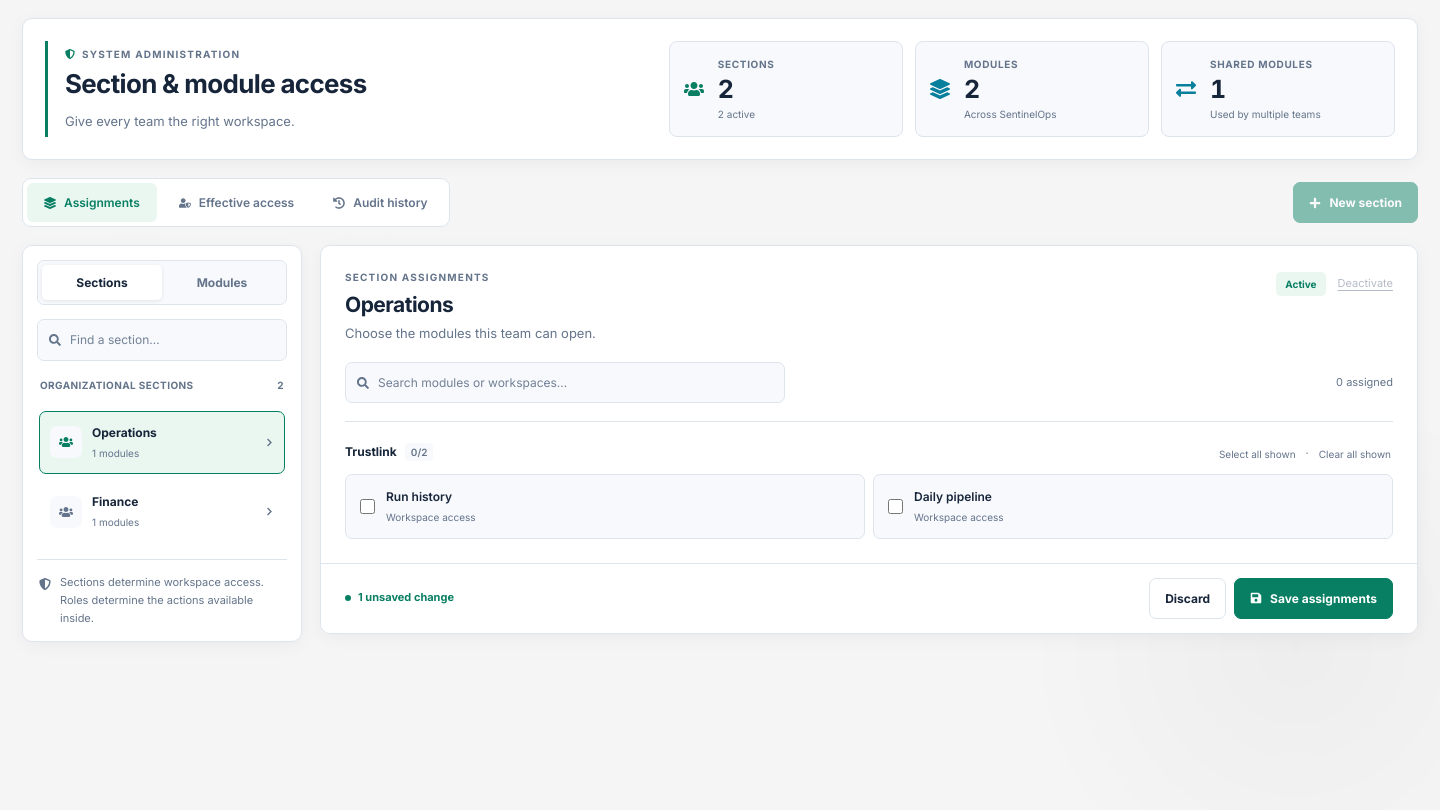
Test: failed saves preserve edits and filtering preserves hidden assignments
This screenshot has width=1440, height=810.
Expected: the checkbox labelled "Run history Workspace access" is shown, [360, 499, 375, 514]
Type "Daily" into the field named "Filter assignments" at [576, 383], box [378, 363, 773, 402]
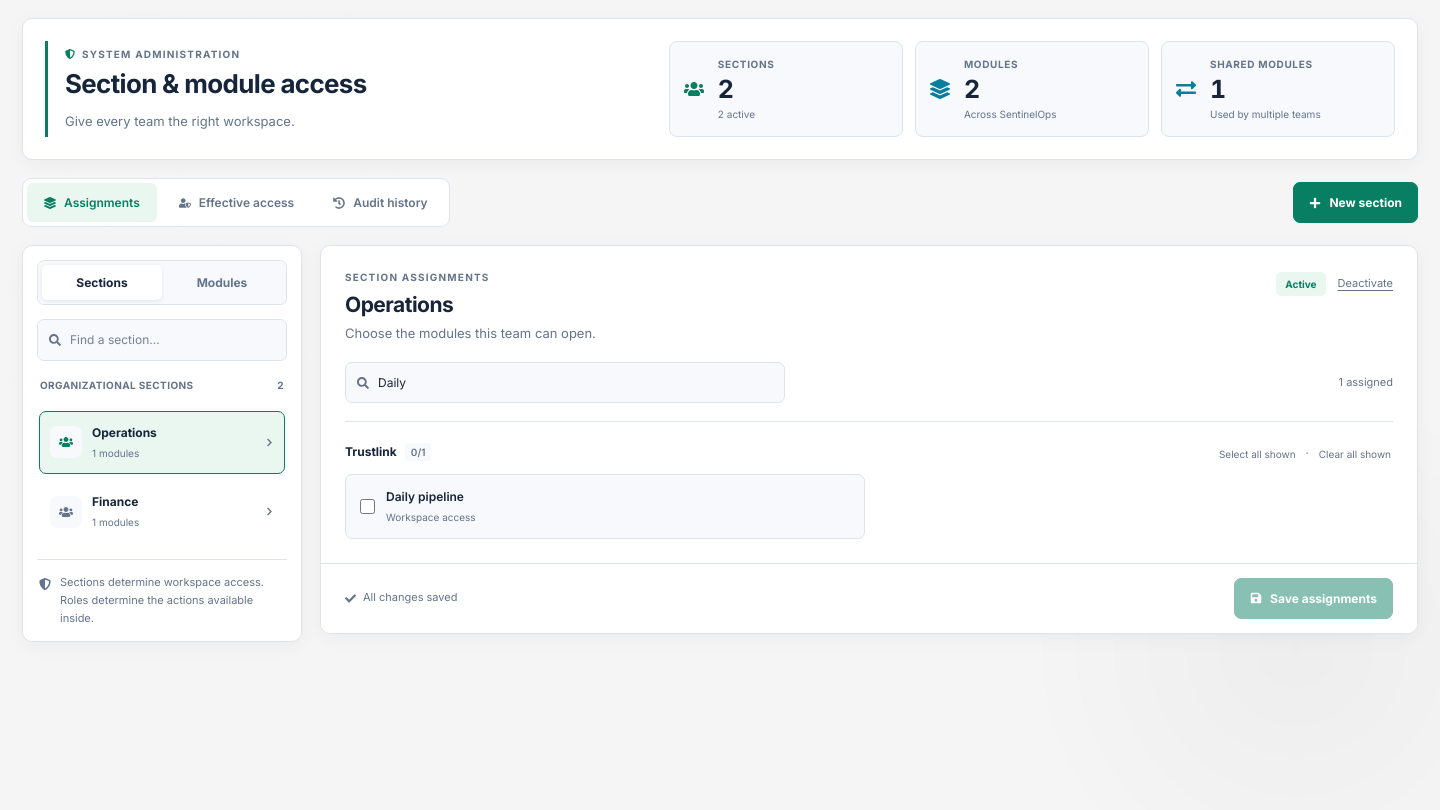
Click the checkbox labelled "Daily pipeline Workspace access" at [368, 506], box [360, 499, 375, 514]
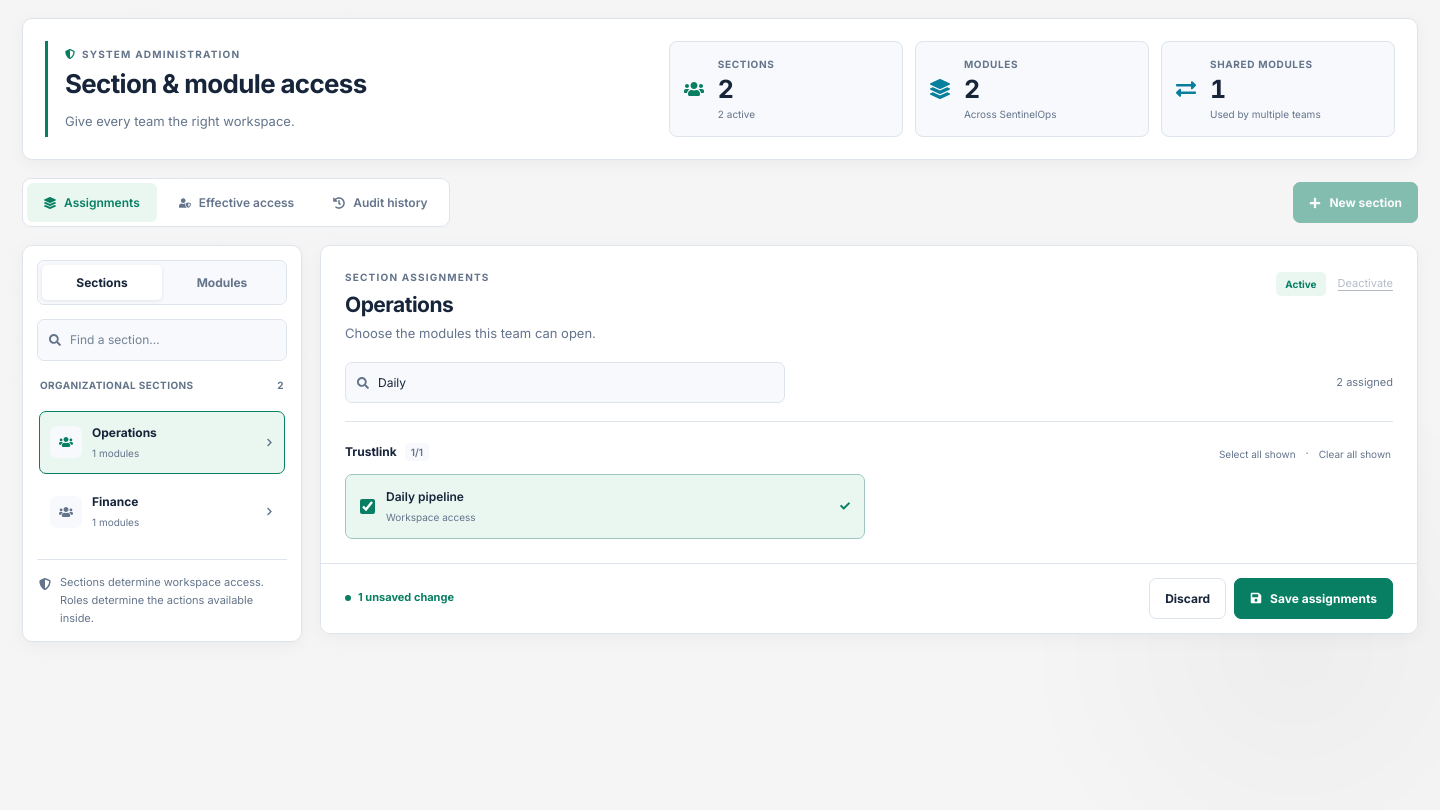
Click the button "Save assignments" at [1314, 598], box [1234, 578, 1393, 619]
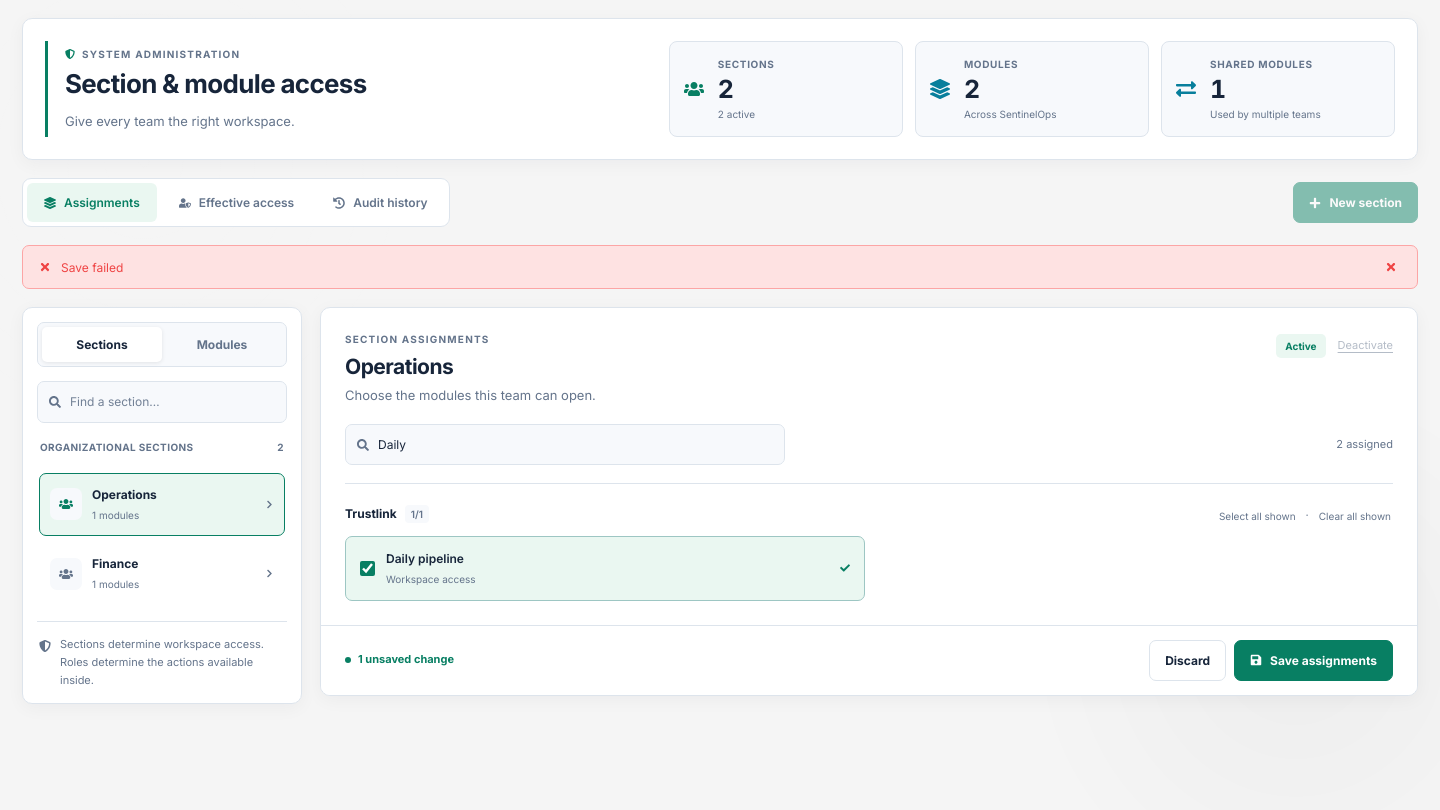
Expected: the checkbox labelled "Daily pipeline Workspace access" is checked, [360, 561, 375, 576]
Expected: the text "1 unsaved change" is shown, [345, 652, 454, 669]
Expected: the message "Save failed" is shown, [22, 245, 1418, 289]
